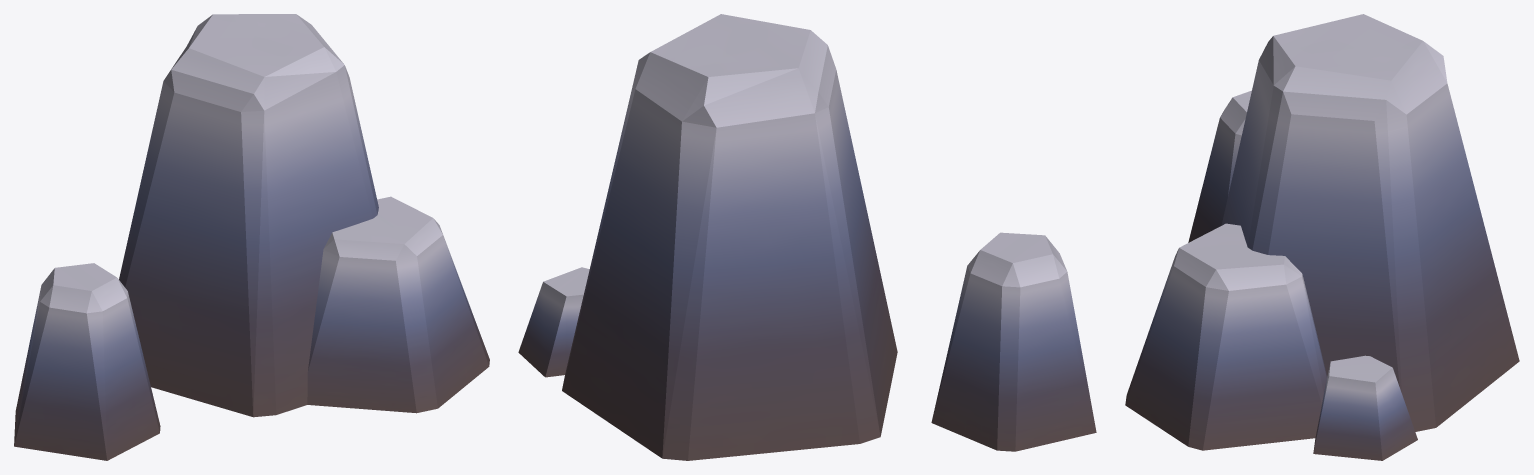
The model's file is block_mountain_2_4.fbx.
3 renders of one model, left to right at view 1: azimuth 30°, elevation 25°; view 2: azimuth 150°, elevation 25°; view 3: azimuth 270°, elevation 25°, orthographic. The views are drawn at different scales.
Parts seen in each view (by area): view 1: block_mountain_2_4; view 2: block_mountain_2_4; view 3: block_mountain_2_4.
Boxes of the visible parts, x1,y1,x2,y2 form: block_mountain_2_4: (14,14,489,460); block_mountain_2_4: (518,14,1096,460); block_mountain_2_4: (1125,14,1519,460).
Size of the model in its own units: 96.72 by 61.41 by 68.01.
